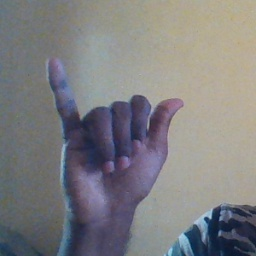J: (40, 57, 187, 208)
